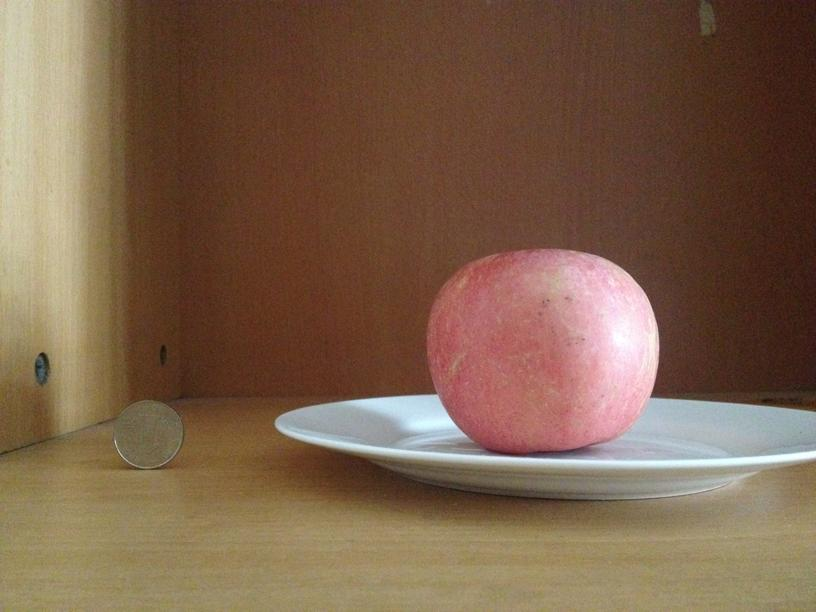apple: (424, 245, 661, 451)
coin: (110, 398, 184, 468)
